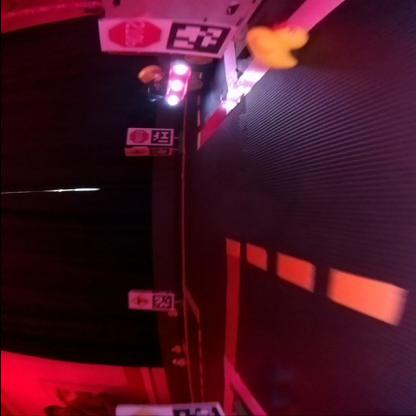Duckie: (248, 23, 302, 67), (137, 65, 159, 81), (166, 310, 176, 316), (171, 358, 181, 364), (170, 345, 178, 351)
Duckiebot: (152, 54, 214, 104)
Intersection sign: (126, 292, 148, 306)
QR code: (166, 20, 226, 54), (150, 128, 172, 144), (152, 295, 170, 309), (149, 147, 170, 155)
Stop sign: (96, 20, 160, 51), (127, 128, 146, 144)
